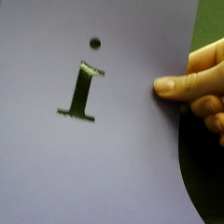violet1: (46, 33, 111, 132)
